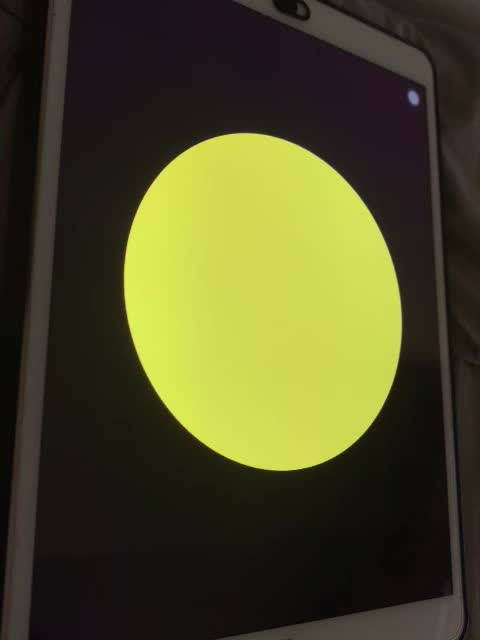left: (122, 124, 407, 490)
